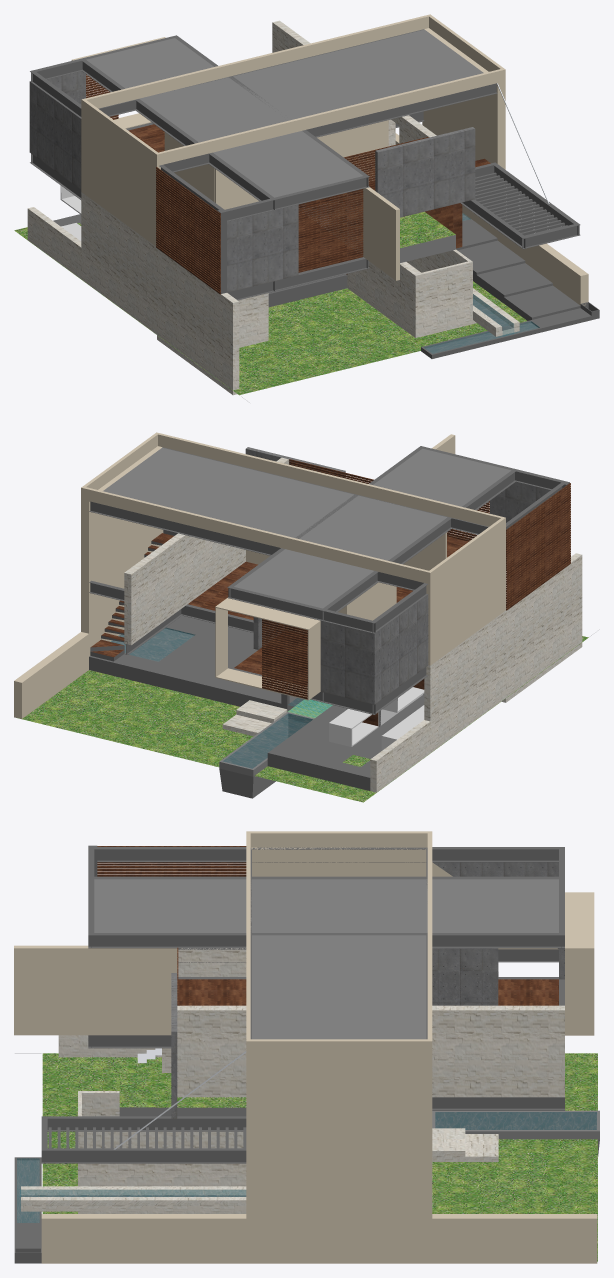
Rendered from structure.glb.
3 views of the same model, one above another, from view 1: azimuth 30°, elevation 25°; view 2: azimuth 150°, elevation 25°; view 3: azimuth 270°, elevation 25° (orthographic). The views are drawn at different scales.
Parts seen in each view (by area): view 1: Structure; view 2: Structure; view 3: Structure.
Boxes of the visible parts, x1=… form: Structure: x1=14, y1=14, x2=599, y2=395; Structure: x1=14, y1=432, x2=588, y2=802; Structure: x1=14, y1=831, x2=599, y2=1263.
Size of the model in its own units: 13.6 by 7.56 by 15.99.
Materials: 12 (6 with a texture image).
